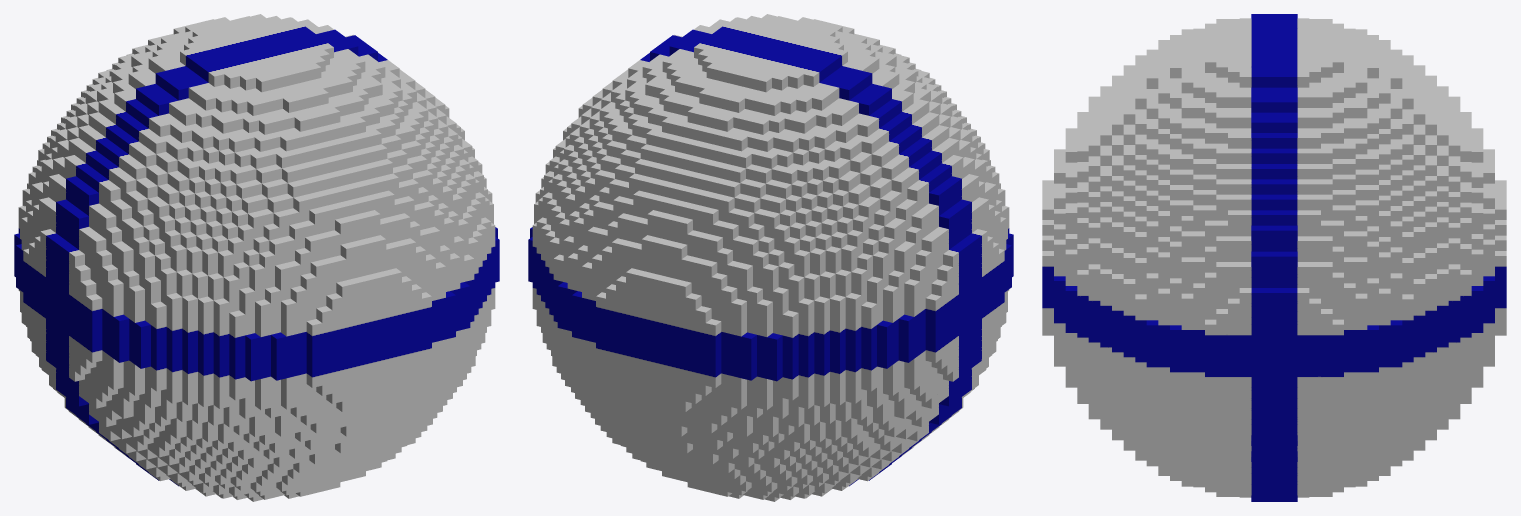
File: Character_1.fbx
3 views of the same model, side by side, from view 1: azimuth 30°, elevation 25°; view 2: azimuth 150°, elevation 25°; view 3: azimuth 270°, elevation 25° (orthographic).
Parts seen in each view (by area): view 1: Character_1; view 2: Character_1; view 3: Character_1.
Boxes of the visible parts, x1,y1,x2,y2 form: Character_1: (14, 14, 499, 501); Character_1: (528, 14, 1013, 501); Character_1: (1042, 14, 1506, 501).
Bounding box in the file's own units: 40 × 40 × 40.
Materials: 1 (1 with a texture image).
